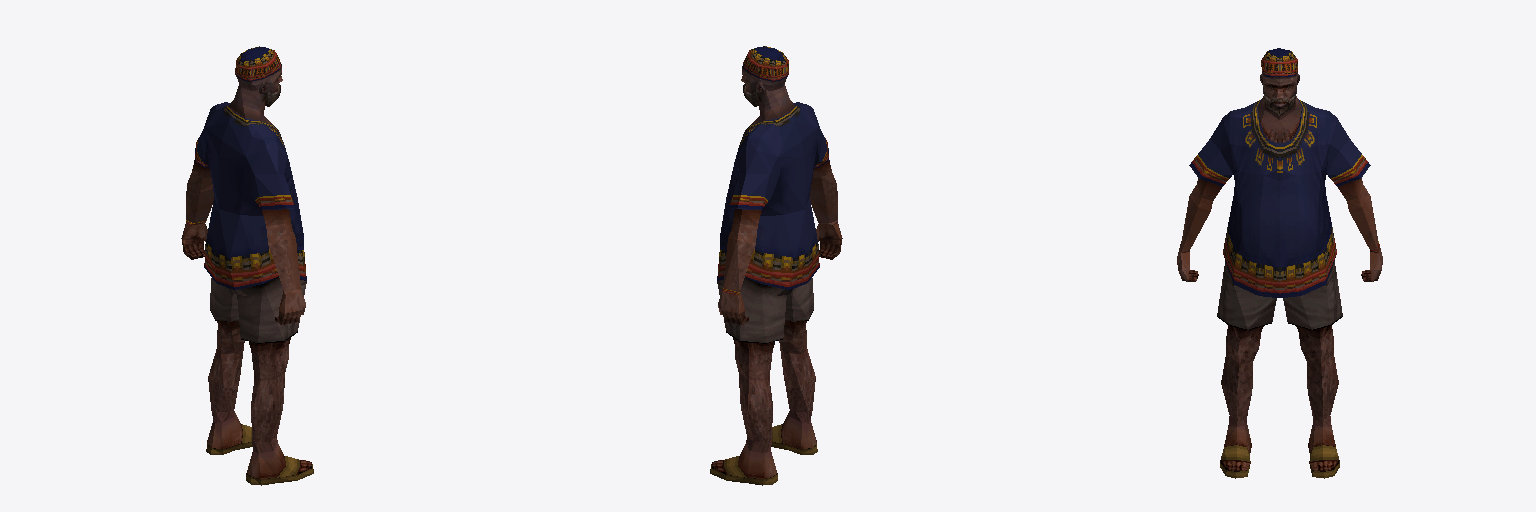
3 views of the same model, side by side, from view 1: azimuth 30°, elevation 25°; view 2: azimuth 150°, elevation 25°; view 3: azimuth 270°, elevation 25° (orthographic).
Parts seen in each view (by area): view 1: _Pelvis; view 2: _Pelvis; view 3: _Pelvis.
Boxes of the visible parts, x1=… form: _Pelvis: x1=181, y1=46, x2=313, y2=485; _Pelvis: x1=710, y1=46, x2=842, y2=485; _Pelvis: x1=1177, y1=48, x2=1382, y2=478.
Size of the model in its own units: 0.3861 by 1.83 by 0.8307.
Materials: 1 (1 with a texture image).